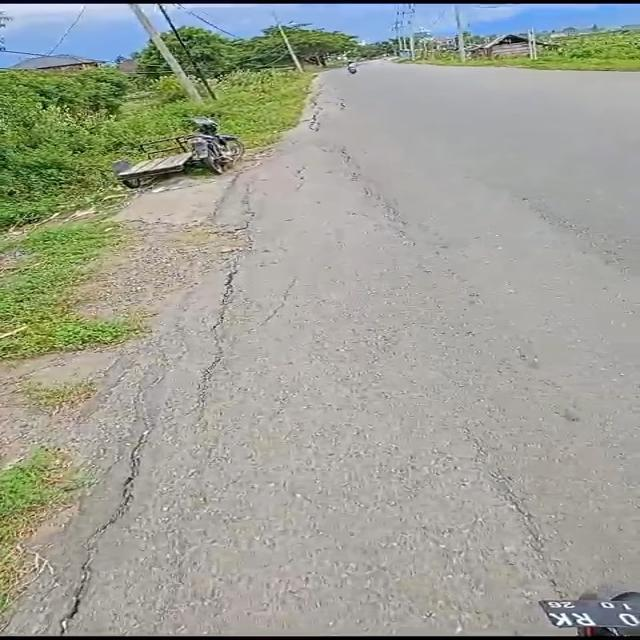Pinggir: (0, 196, 282, 638)
